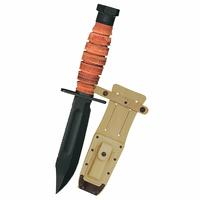knife: (52, 8, 118, 196)
